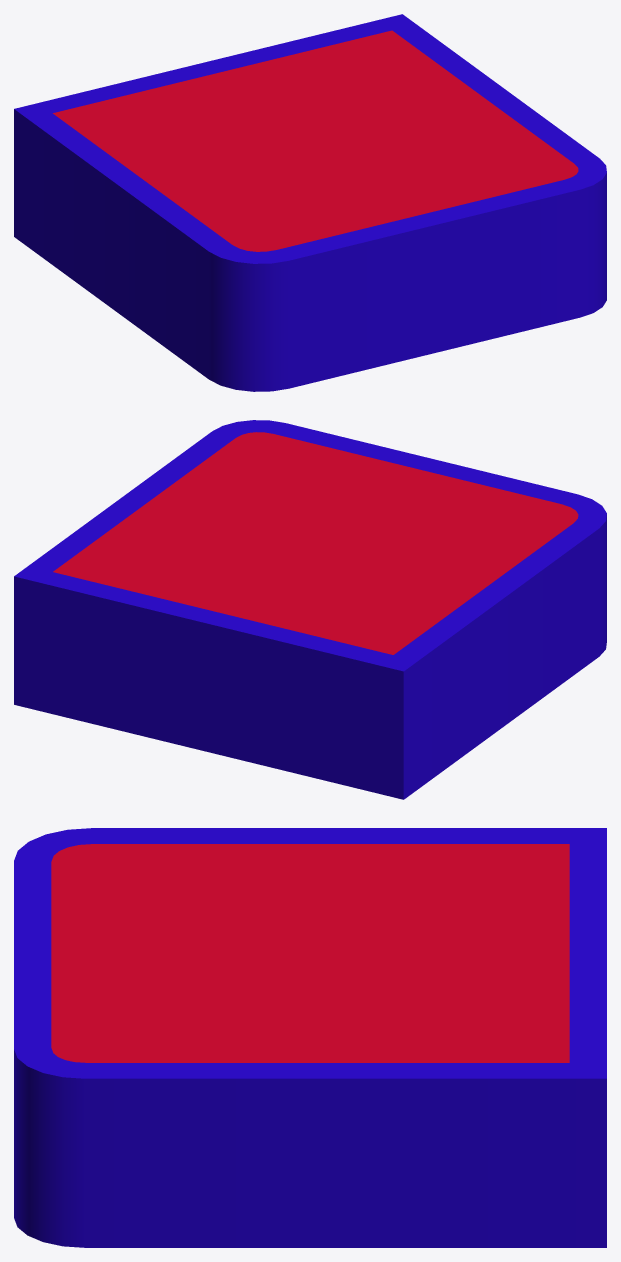
File: S_HallWay.fbx
The picture shows the model from 3 angles, top to bottom: view 1: azimuth 30°, elevation 25°; view 2: azimuth 150°, elevation 25°; view 3: azimuth 270°, elevation 25°; orthographic projection. The views are drawn at different scales.
Parts seen in each view (by area): view 1: HallWay; view 2: HallWay; view 3: HallWay.
Part boxes in pixels (left/top/right/bottom): HallWay: left=14, top=14, right=606, bottom=391; HallWay: left=14, top=420, right=606, bottom=799; HallWay: left=14, top=828, right=606, bottom=1247.
Size of the model in its own units: 100 by 31.47 by 100.
